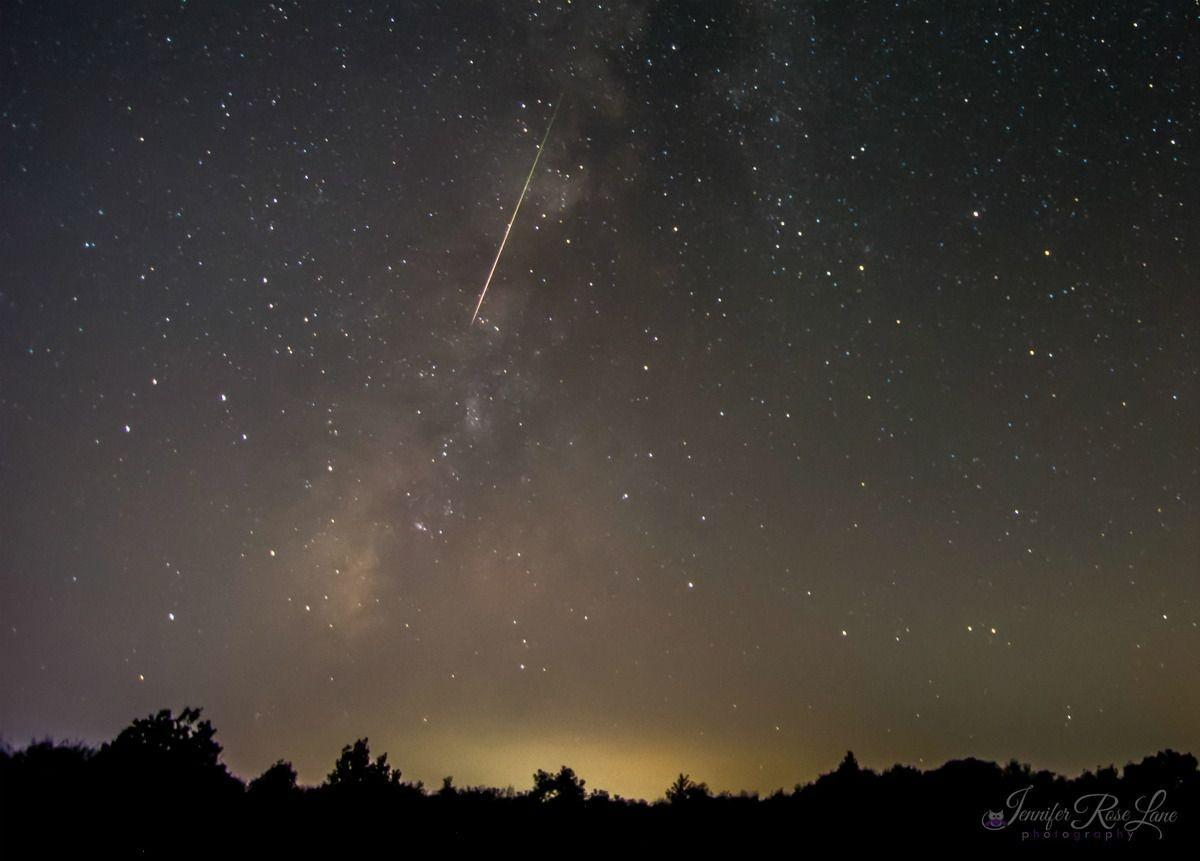meteorite: (461, 197, 521, 337)
